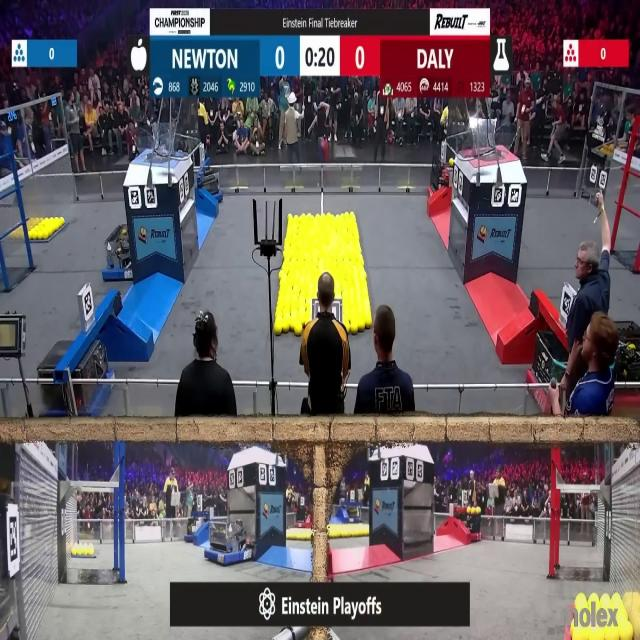ball_ground: (294, 325, 302, 339), (274, 322, 282, 334), (363, 316, 371, 328)
goal: (465, 122, 521, 160), (129, 129, 187, 160)
robot_blue: (36, 336, 113, 414), (205, 518, 252, 564), (102, 228, 136, 281), (337, 479, 373, 523), (196, 166, 224, 202), (185, 518, 211, 544)
robot_red: (528, 339, 593, 413), (612, 328, 640, 410), (426, 167, 452, 206), (456, 507, 482, 543)
